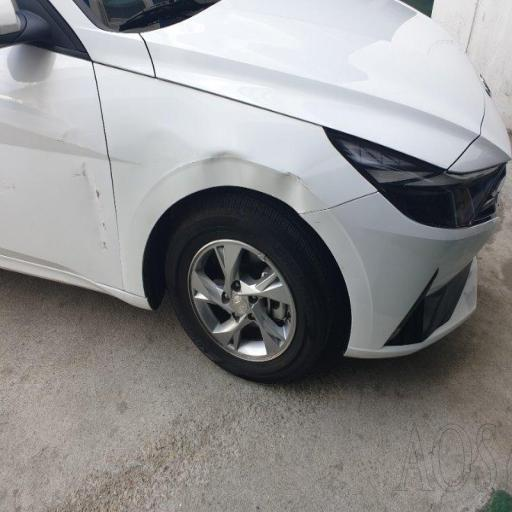dent: (156, 122, 363, 238)
scratch: (65, 137, 144, 270)
